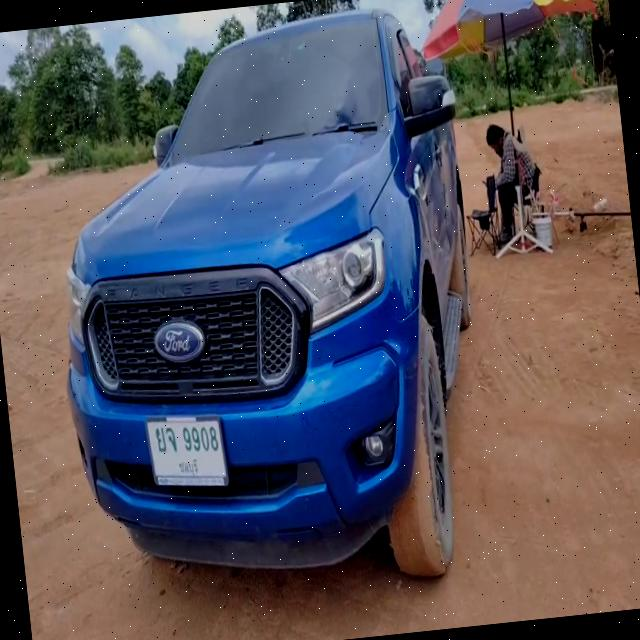Digit: (180, 426, 220, 451)
Licenseplate: (145, 419, 228, 486)
Provincename: (177, 457, 200, 477)
Thaichar: (154, 427, 178, 452)
